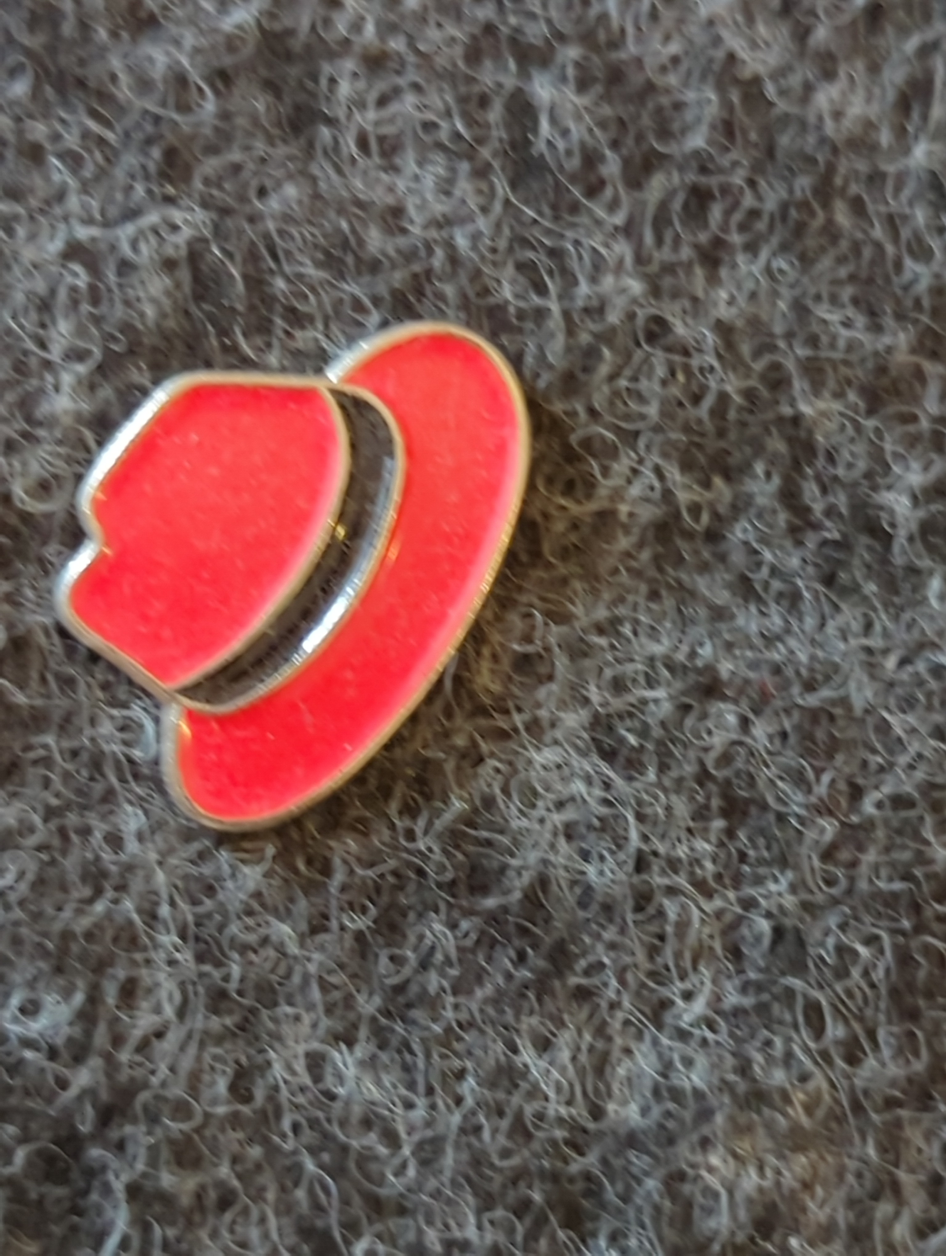Red-Hat: (22, 250, 666, 900)
